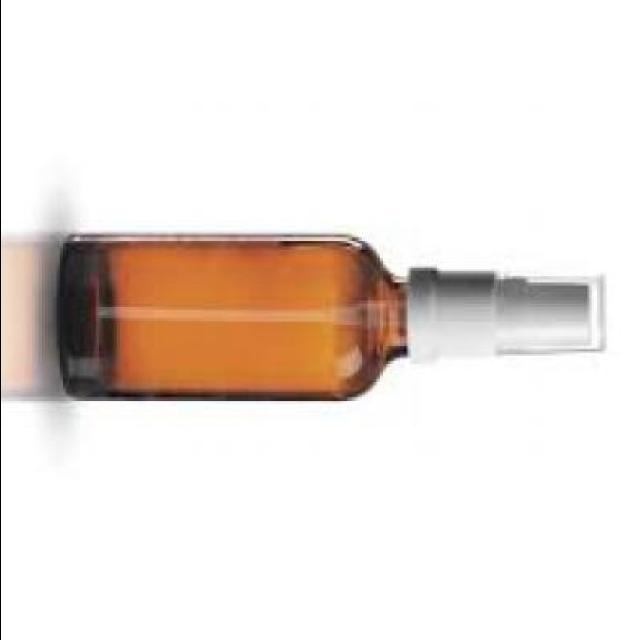kaca: (62, 232, 408, 397)
